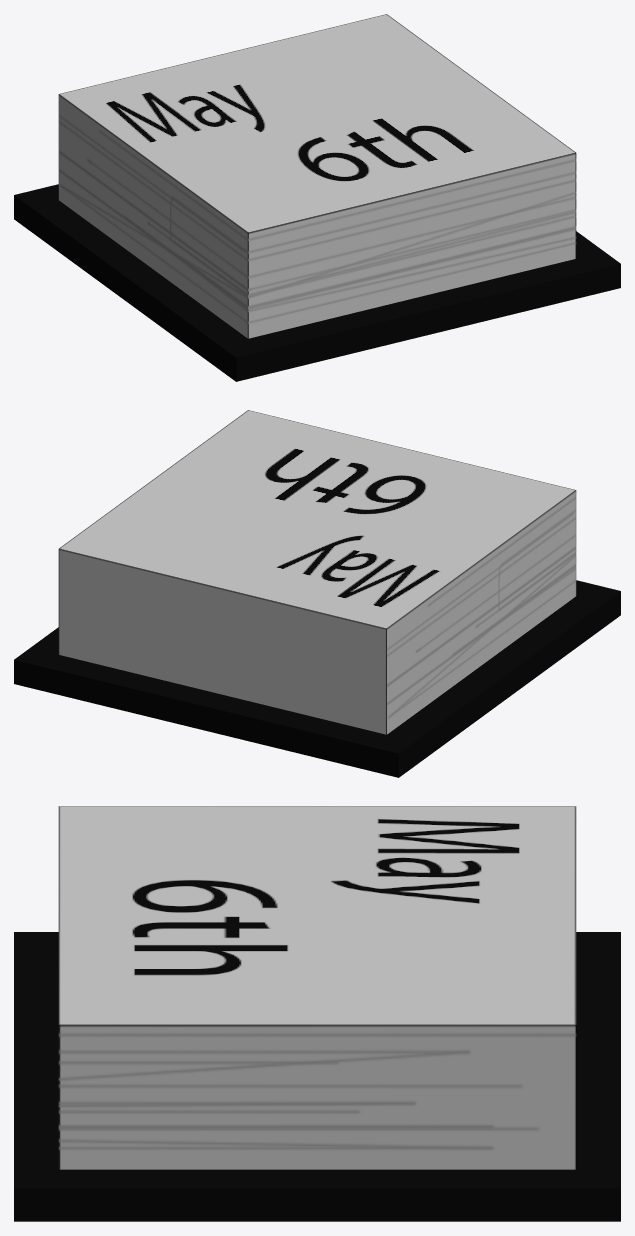
Rendered from calender_model.fbx.
3 views of the same model, one above another, from view 1: azimuth 30°, elevation 25°; view 2: azimuth 150°, elevation 25°; view 3: azimuth 270°, elevation 25° (orthographic). The views are drawn at different scales.
Visible parts, largest first — view 1: pCube3; view 2: pCube3; view 3: pCube3.
Part boxes in pixels (<box>): pCube3: <box>14,14,620,381</box>; pCube3: <box>14,410,620,777</box>; pCube3: <box>14,806,620,1221</box>.
Bounding box in the file's own units: 1.82 × 0.5873 × 1.82.
1 material, 1 textured.
